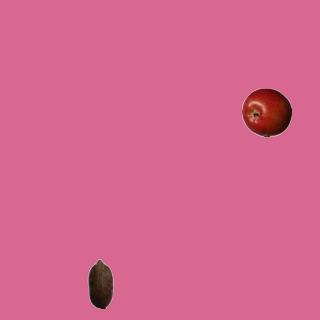Apple Braeburn: (241, 87, 291, 137)
Nut Pecan: (75, 258, 125, 308)
